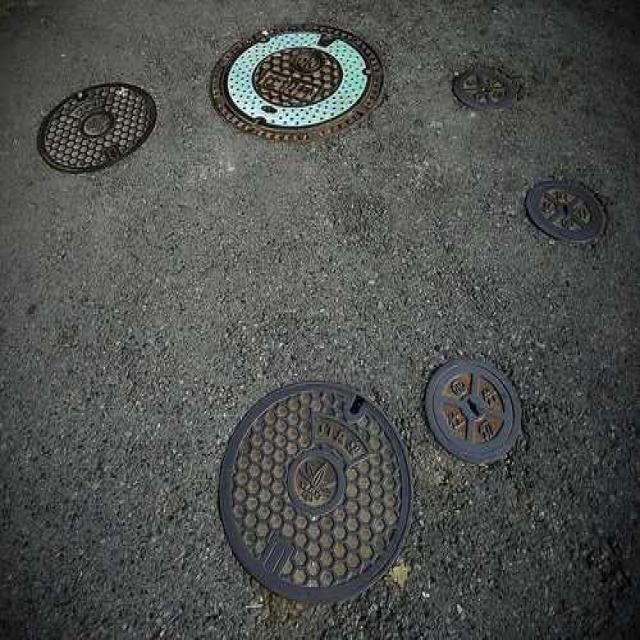manhole: (220, 382, 411, 602), (211, 27, 382, 139), (38, 83, 156, 172), (425, 358, 521, 462), (527, 182, 605, 242), (453, 68, 511, 109)
